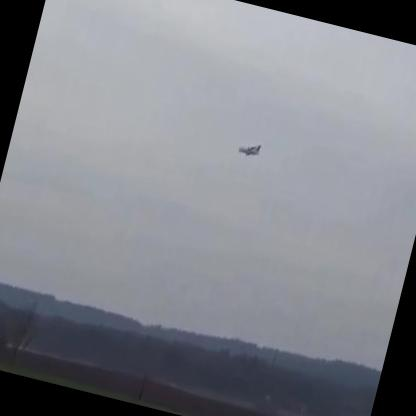plane: (238, 142, 262, 161)
